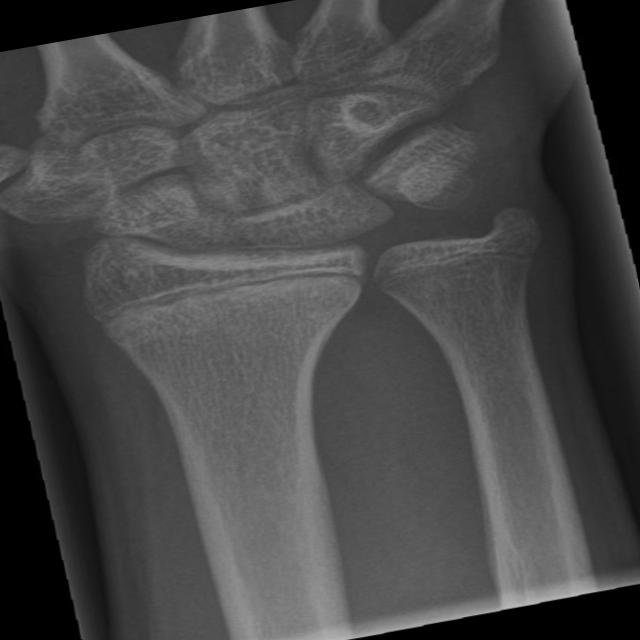fracture: (64, 232, 377, 353), (330, 215, 550, 305)
